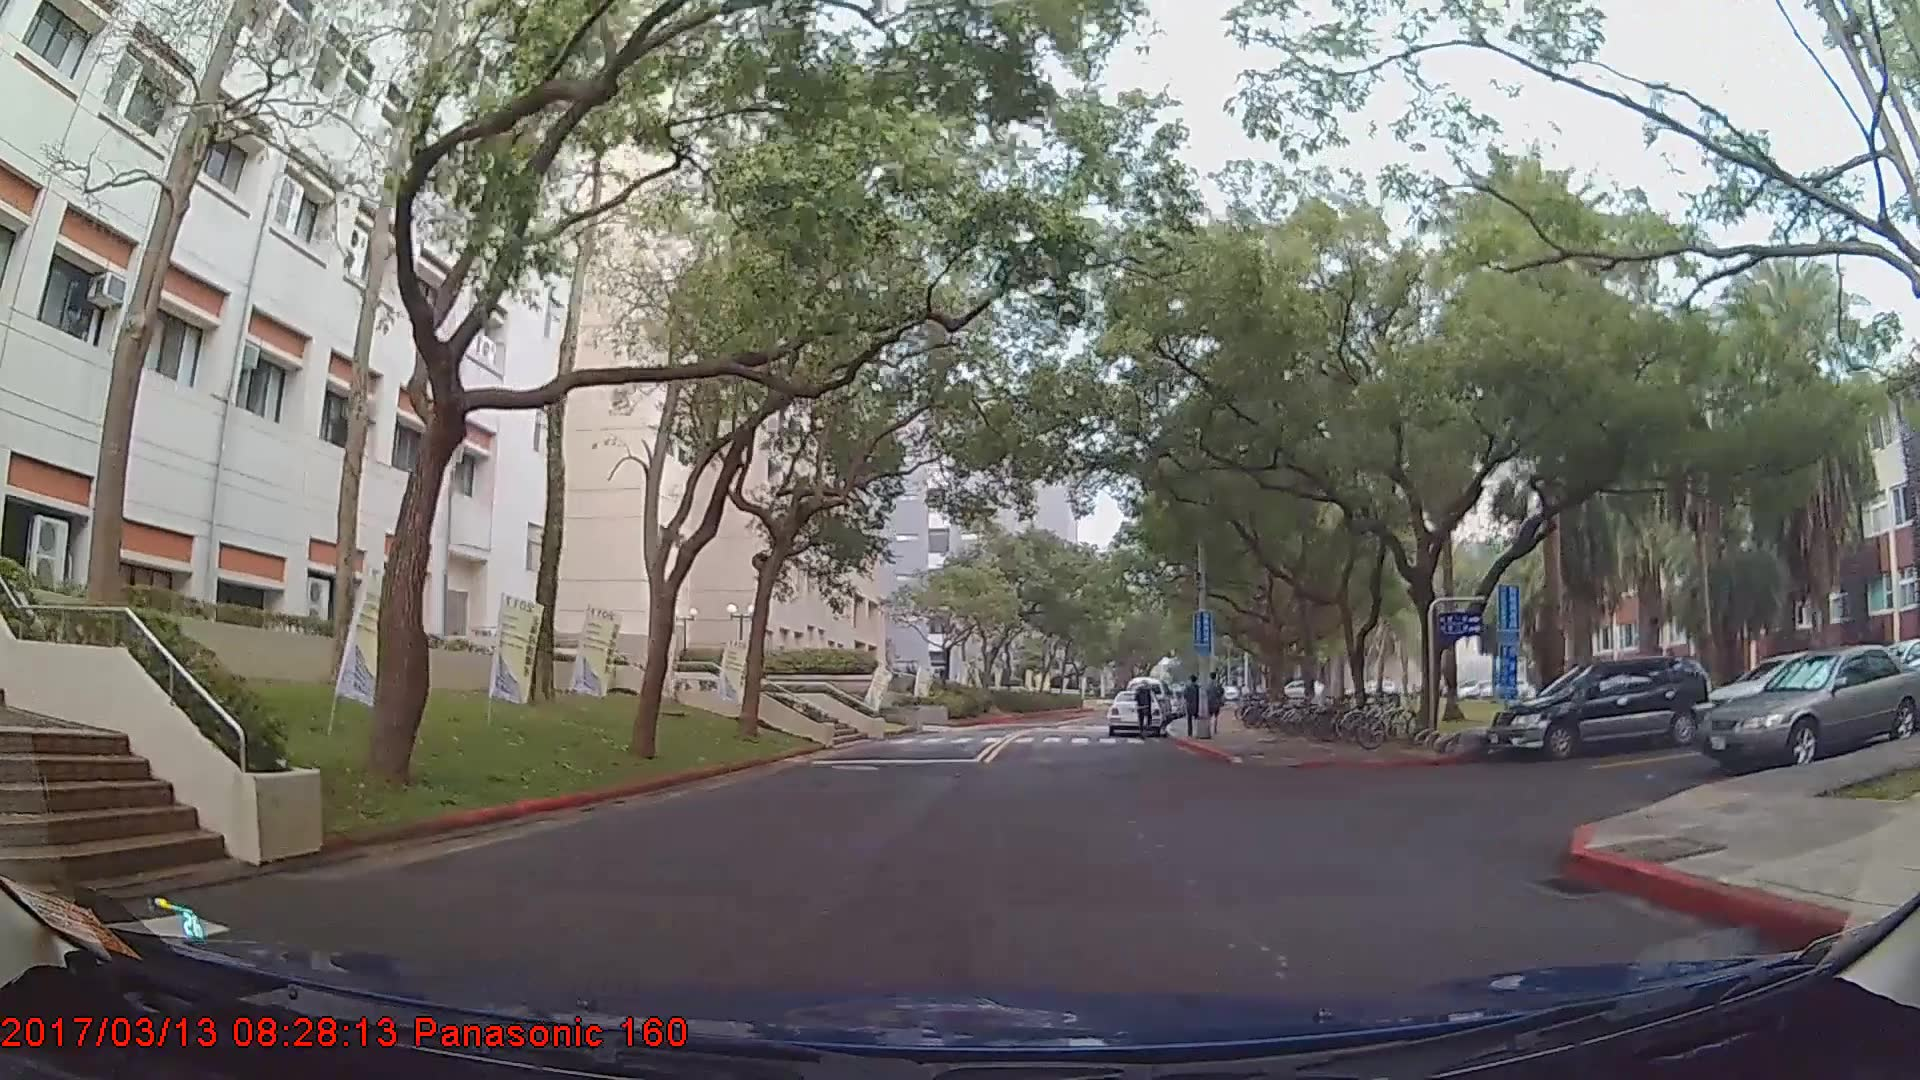pedestrian: (1135, 680, 1155, 742), (1185, 677, 1207, 735)
vehicle: (1697, 643, 1920, 773), (1487, 653, 1708, 762), (1103, 687, 1163, 734)
